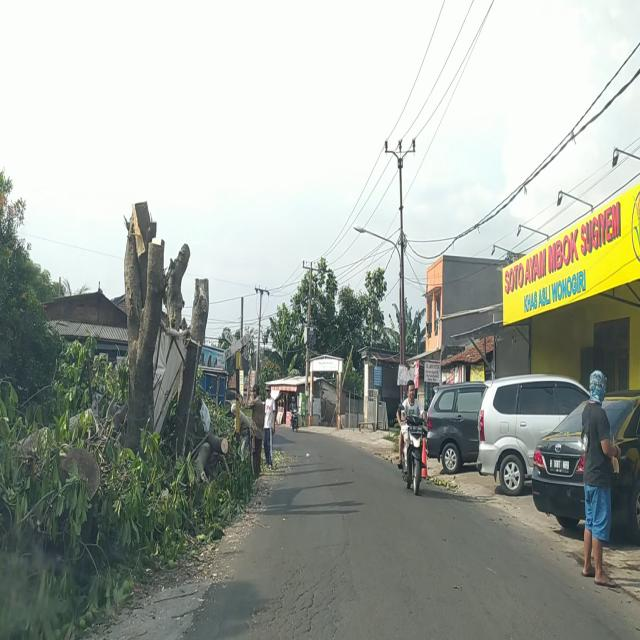Drain Hole: (258, 560, 336, 640)
